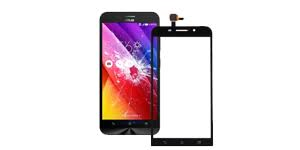asus: (95, 10, 163, 138)
